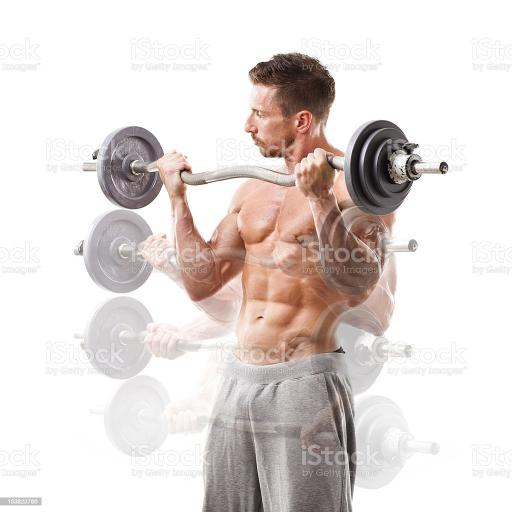exercise: (140, 51, 400, 511)
